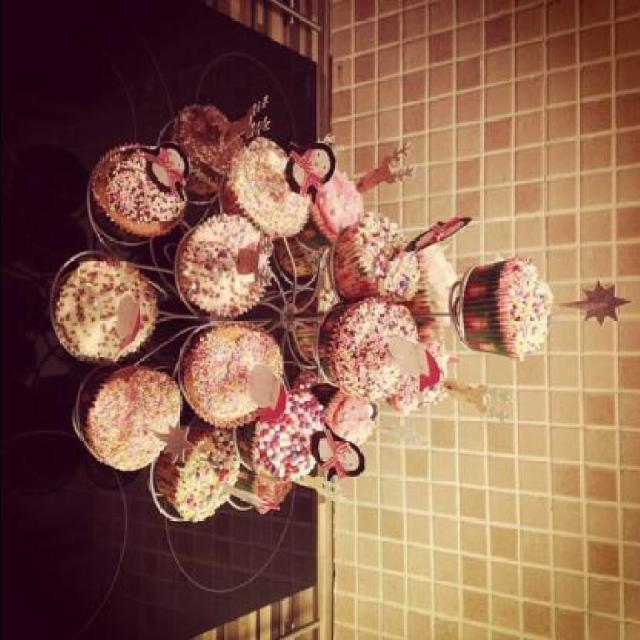Muffin: (50, 92, 633, 520)
